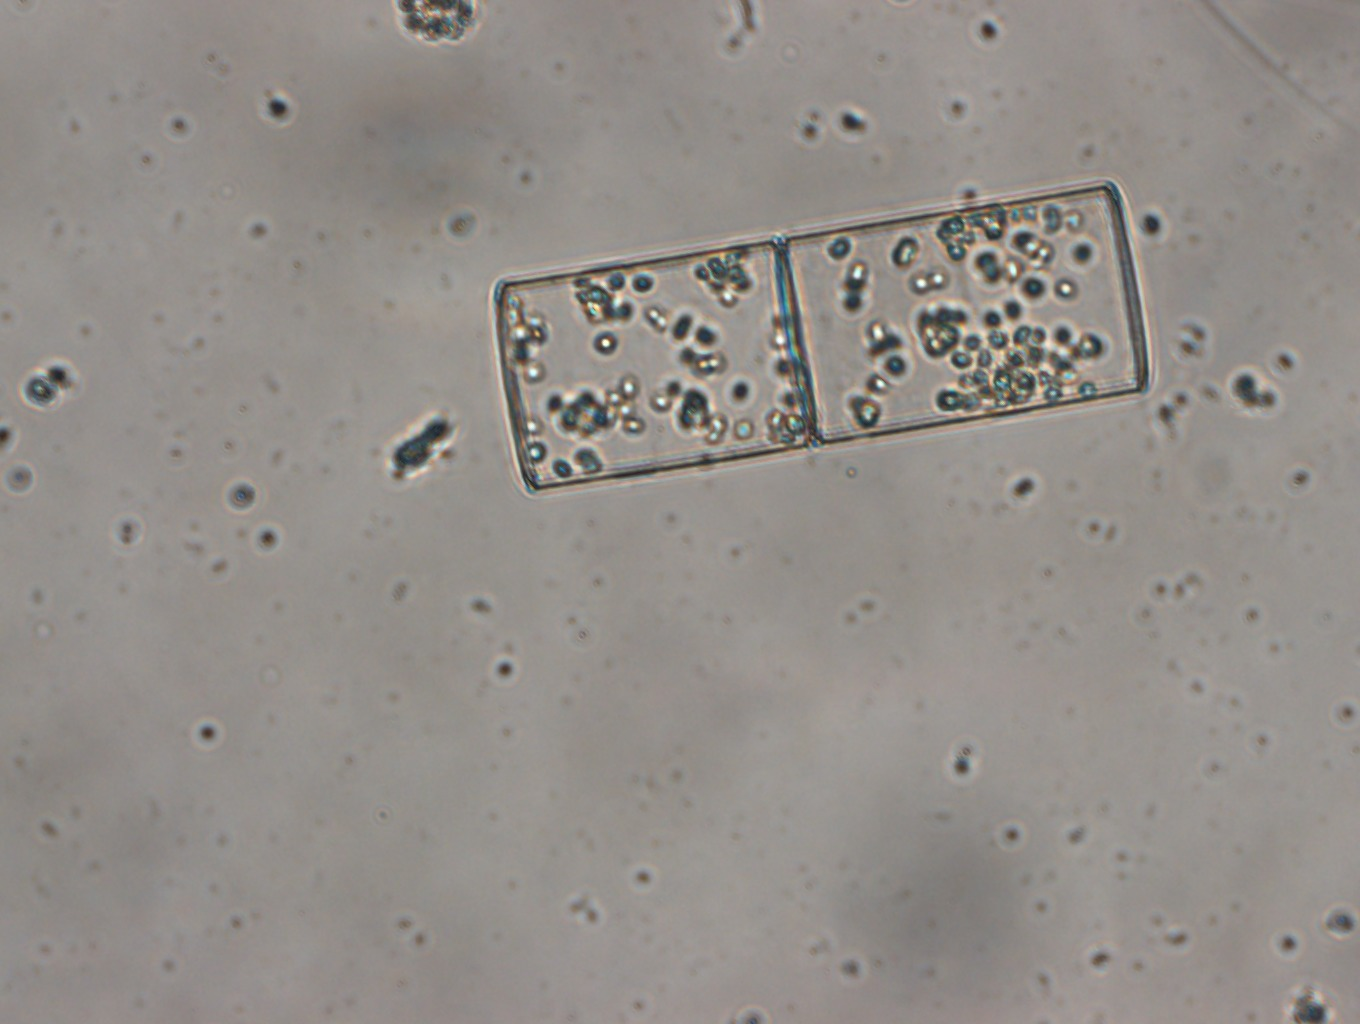guinardia flaccida: (493, 175, 1158, 500)
